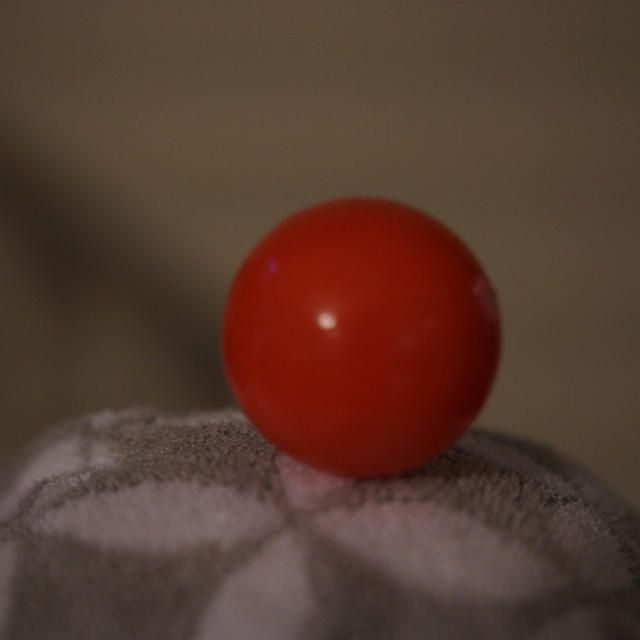Ball: (224, 195, 503, 477)
